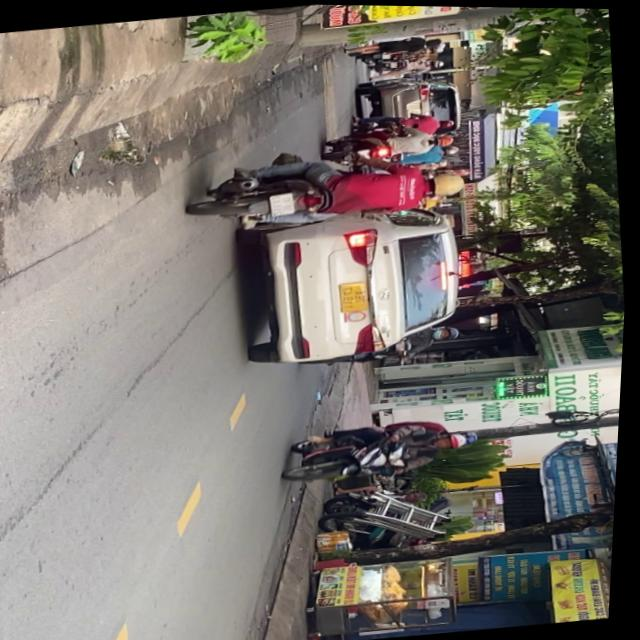helmet: (427, 169, 470, 197), (441, 428, 480, 450)
licenseplate: (185, 134, 475, 239), (282, 409, 485, 489)
nohelmet: (271, 190, 298, 215)
